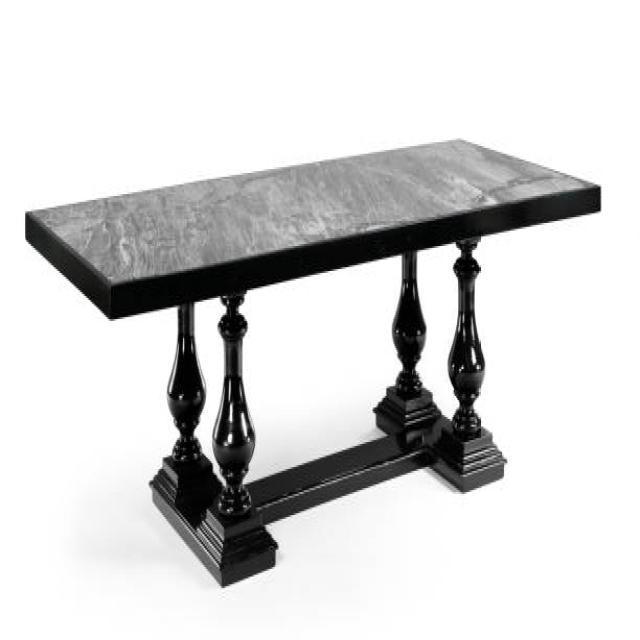table: (24, 133, 602, 586)
